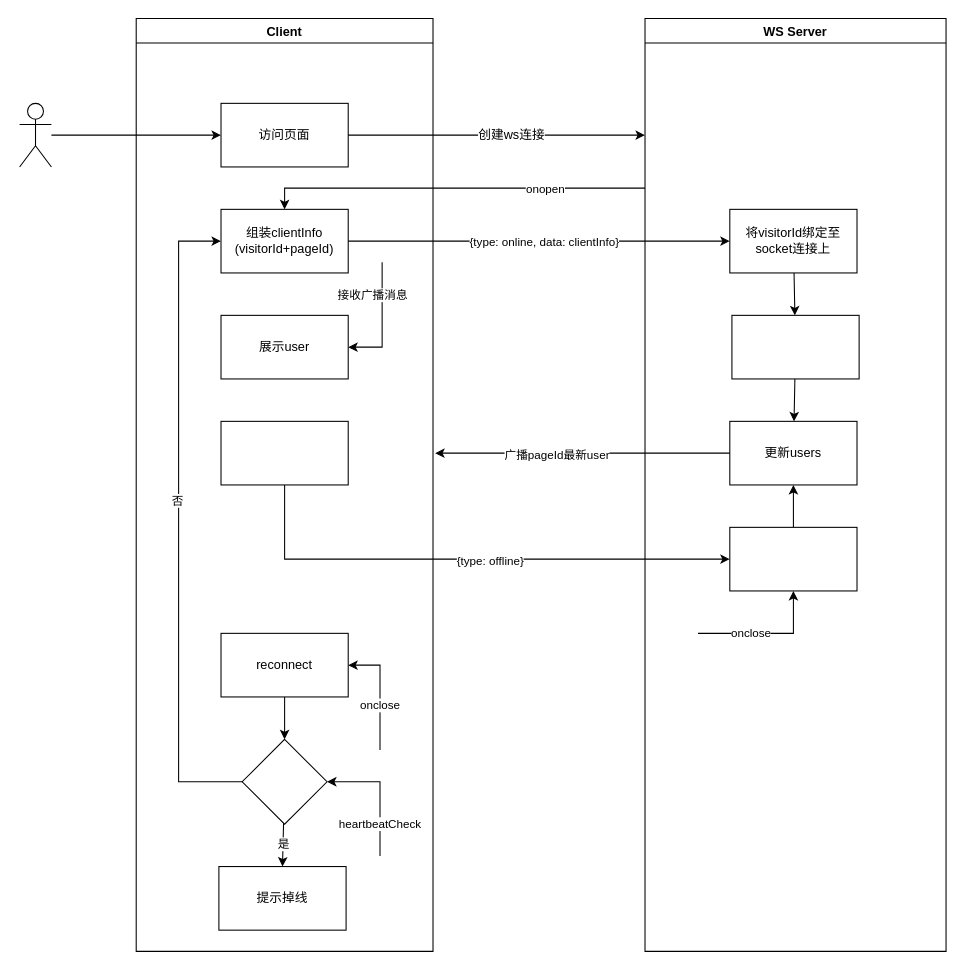
Image size: 965x970. Some labels were removed from this diagram. The shapes that lost their labels are listed below. From the top down, each one's centre as x and y in pixels, then its label:
At point 35,134: "Visitor".
At point 795,346: "根据gitTokn计算用户画像".
At point 284,452: "关闭页面 切换页面".
At point 793,558: "根据socket上挂载的visitorId剔除该用户".
At point 284,781: "超时？".
